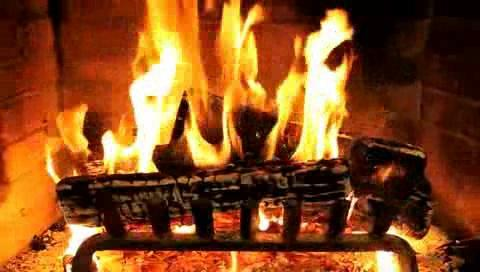fire: (80, 7, 349, 171)
